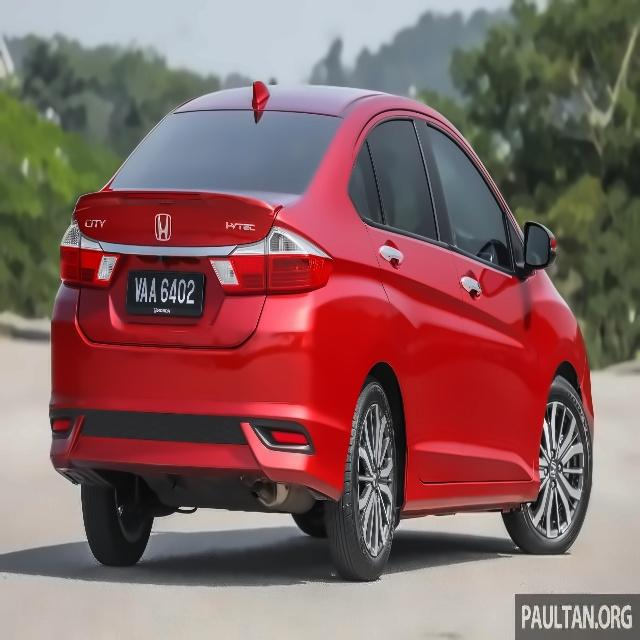Car boot: (73, 187, 284, 357)
Driver-s door - -F-R-: (442, 115, 531, 490)
Fender - -F-R-: (528, 266, 585, 491)
Fender - -R-R-: (319, 188, 417, 498)
Front bumper: (577, 351, 604, 439)
Passenger-s door - -R-R-: (353, 107, 442, 491)
Rear bumper: (35, 301, 354, 508)
Rear light - -L-: (51, 215, 128, 299)
Rear light - -R-: (208, 218, 339, 302)
Side bumper - -R-: (398, 472, 549, 526)
Side mirror - -R-: (511, 213, 565, 287)
